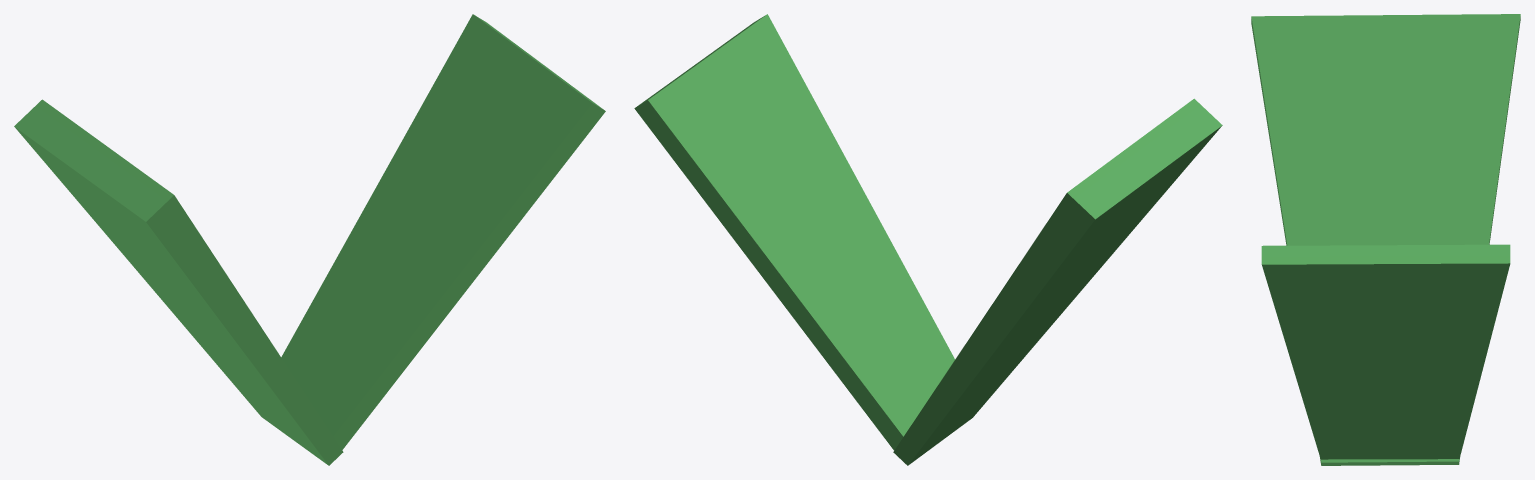
File: grass.glb
3 renders of one model, left to right at view 1: azimuth 30°, elevation 25°; view 2: azimuth 150°, elevation 25°; view 3: azimuth 270°, elevation 25°, orthographic. The views are drawn at different scales.
Visible parts, largest first — view 1: Cube; view 2: Cube; view 3: Cube.
Boxes of the visible parts, x1,y1,x2,y2 form: Cube: [14, 14, 605, 465]; Cube: [634, 14, 1222, 465]; Cube: [1251, 14, 1520, 465].
Size of the model in its own units: 2.48 by 1.74 by 1.2.
Materials: 2 (2 with a texture image).
